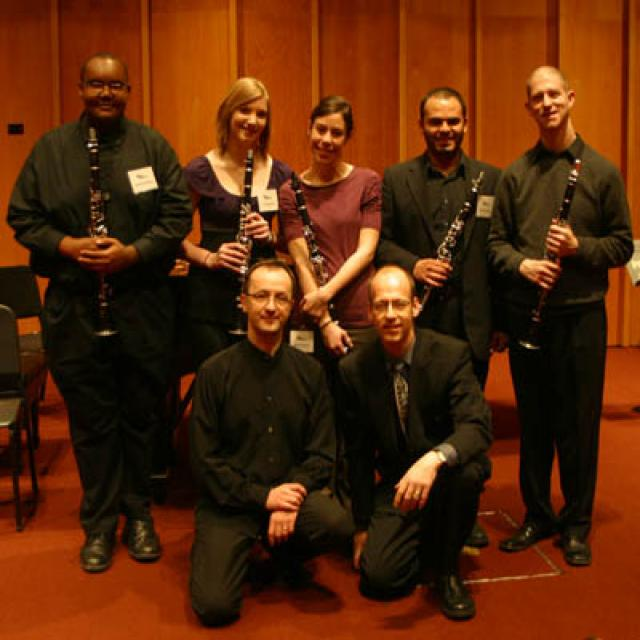clarinet: (515, 158, 586, 355), (284, 171, 354, 358), (408, 172, 488, 321), (77, 126, 124, 342), (223, 146, 261, 340)
